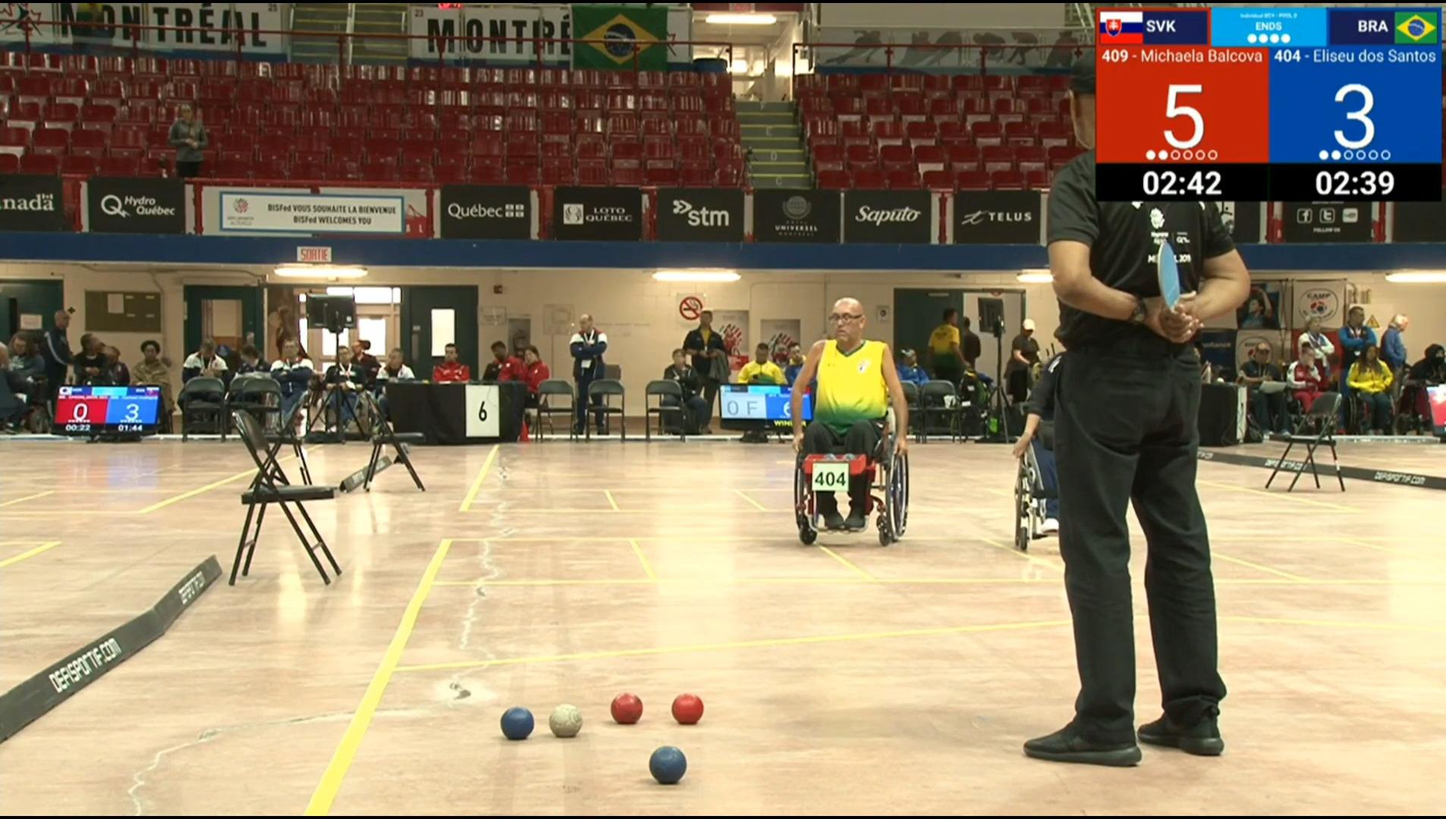blue_ball: (649, 745, 687, 787), (497, 704, 537, 742)
red_ball: (609, 689, 646, 726), (669, 691, 706, 727)
white_ball: (547, 703, 587, 740)
